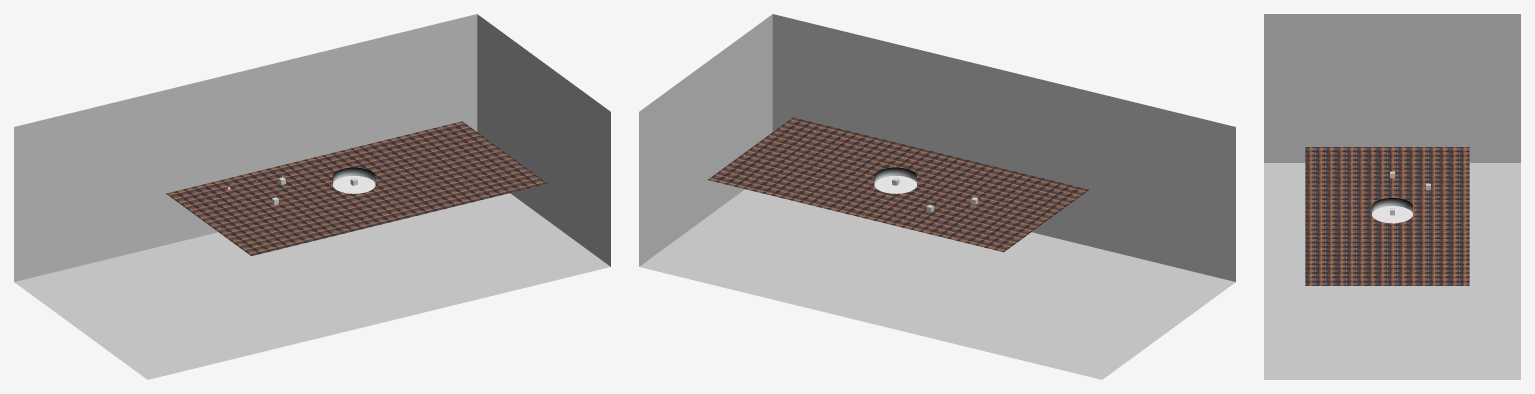
Rendered from particles.gltf.
3 renders of one model, left to right at view 1: azimuth 30°, elevation 25°; view 2: azimuth 150°, elevation 25°; view 3: azimuth 270°, elevation 25°, orthographic. The views are drawn at different scales.
Parts seen in each view (by area): view 1: Plane, Plane.001; view 2: Plane, Plane.001; view 3: Plane, Plane.001.
Part boxes in pixels (x1,y1,x2,y2): Plane: (14, 14, 610, 379); Plane.001: (333, 167, 375, 193); Plane: (639, 14, 1235, 379); Plane.001: (874, 167, 916, 193); Plane: (1264, 14, 1520, 379); Plane.001: (1372, 198, 1412, 223).
Size of the model in its own units: 100 by 32 by 50.
5 materials, 4 textured.
